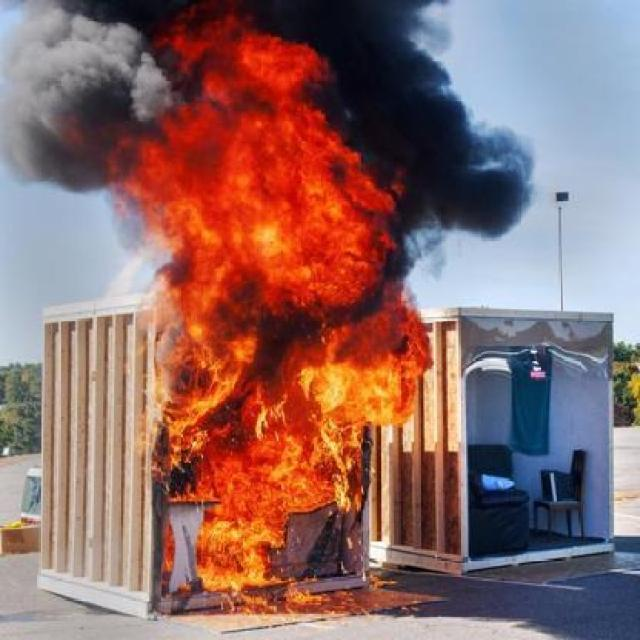Fire: (124, 6, 436, 633)
Smoke: (14, 6, 122, 182), (441, 62, 532, 246)
